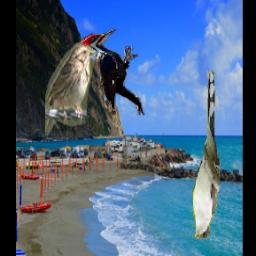Cuckoo: (191, 70, 219, 239)
Sparrow: (45, 42, 98, 135)
Woodpecker: (80, 28, 144, 115)
